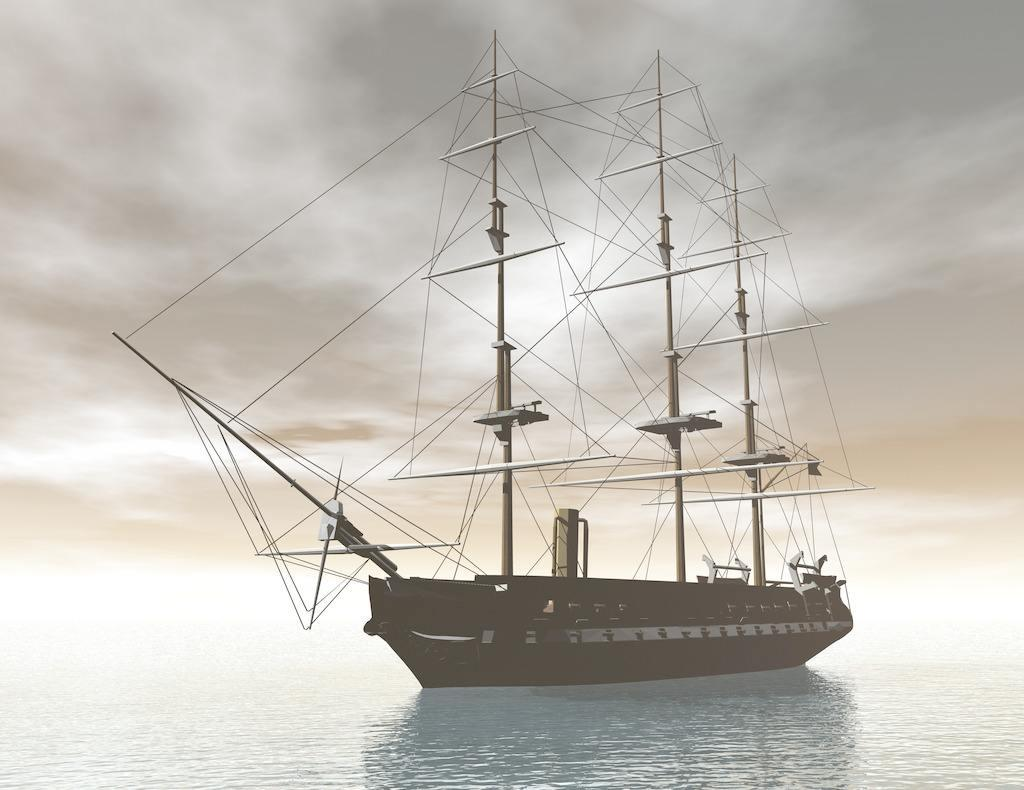fanchuan: (108, 22, 878, 691)
